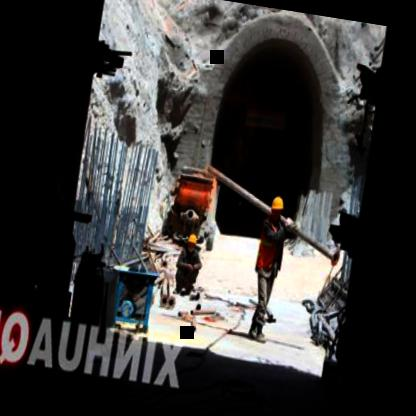helmet: (266, 191, 286, 222), (183, 230, 199, 254)
